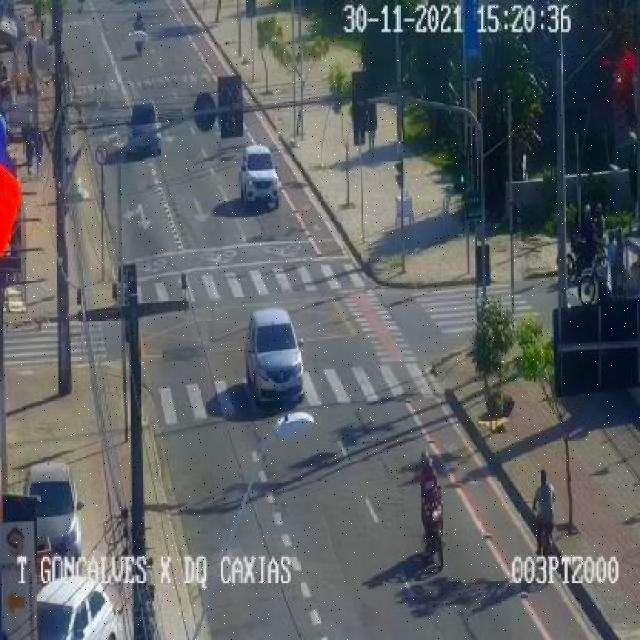Car: (24, 460, 84, 560), (249, 307, 307, 405), (36, 575, 120, 640), (238, 143, 280, 210), (128, 99, 165, 155)
Cycle: (558, 252, 598, 305), (422, 506, 451, 570)
